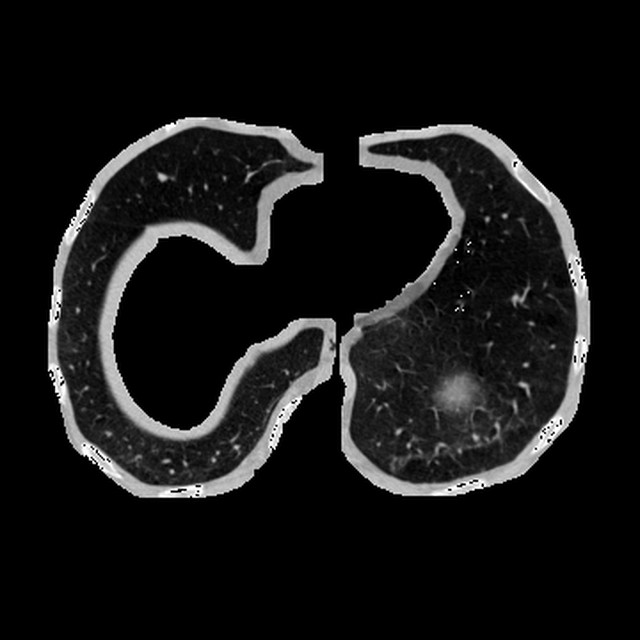PN: (156, 171, 167, 181)
